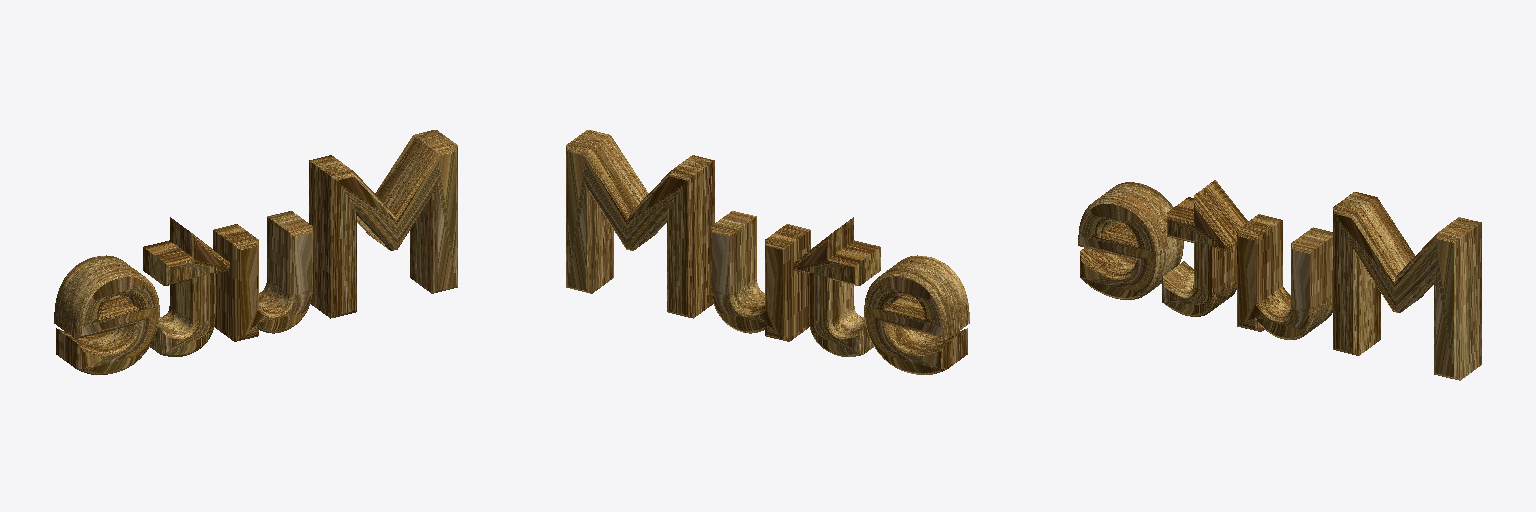
The picture shows the model from 3 angles: view 1: azimuth 30°, elevation 25°; view 2: azimuth 150°, elevation 25°; view 3: azimuth 330°, elevation 25°; orthographic projection.
Visible parts, largest first — view 1: Text; view 2: Text; view 3: Text.
Part boxes in pixels (bbox=[...]): Text: bbox=[54, 130, 457, 374]; Text: bbox=[566, 130, 969, 374]; Text: bbox=[1078, 180, 1481, 380].
Size of the model in its own units: 2.03 by 0.731 by 0.24.
Materials: 1 (1 with a texture image).